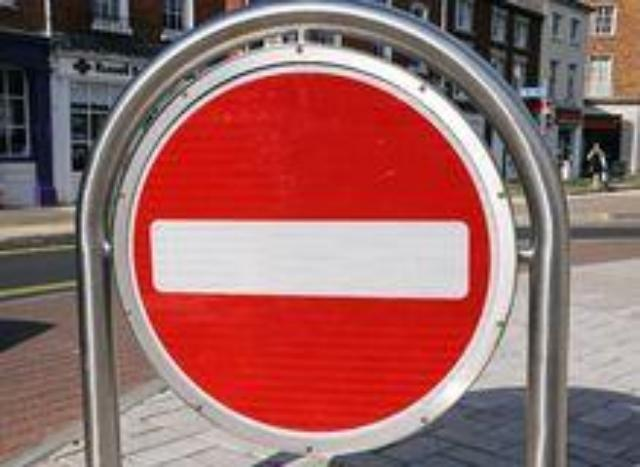B2: (105, 44, 517, 456)
